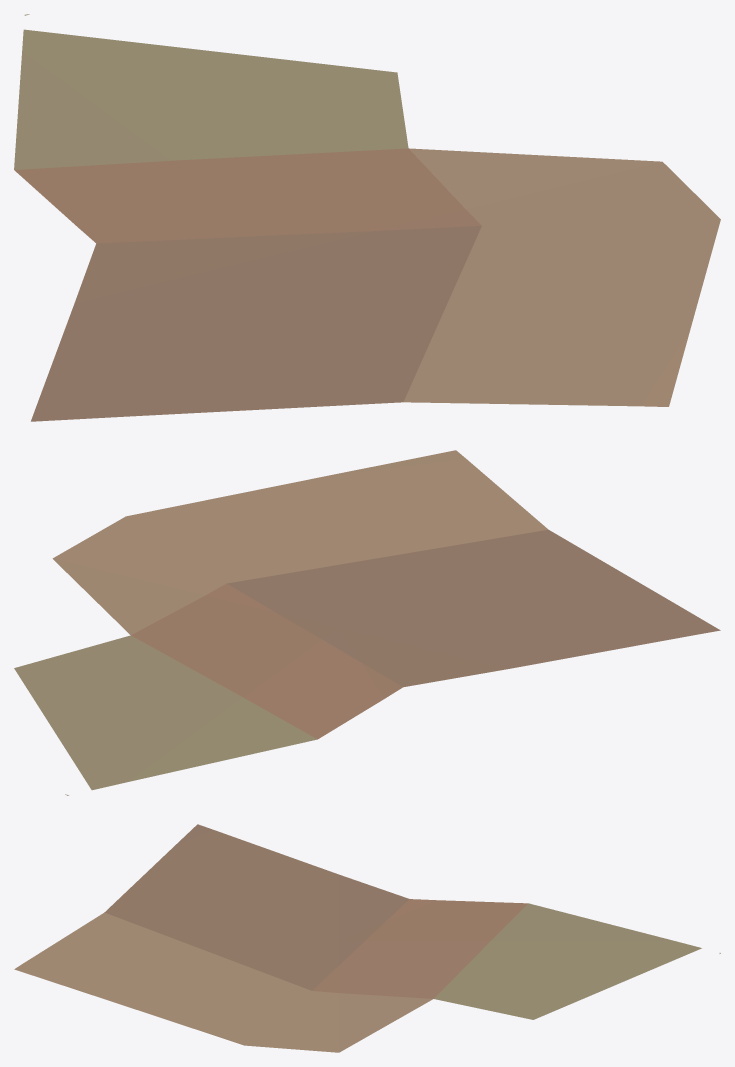
Rendered from farm_5_5_soil.glb.
3 renders of one model, top to bottom at view 1: azimuth 30°, elevation 25°; view 2: azimuth 150°, elevation 25°; view 3: azimuth 270°, elevation 25°, orthographic. The views are drawn at different scales.
Visible parts, largest first — view 1: geometry_0; view 2: geometry_0; view 3: geometry_0.
Boxes of the visible parts, box(x1,y1,x2,y2) form: geometry_0: box(14, 14, 720, 421); geometry_0: box(14, 450, 720, 795); geometry_0: box(14, 824, 720, 1052).
Size of the model in its own units: 112 by 1.4 by 149.
